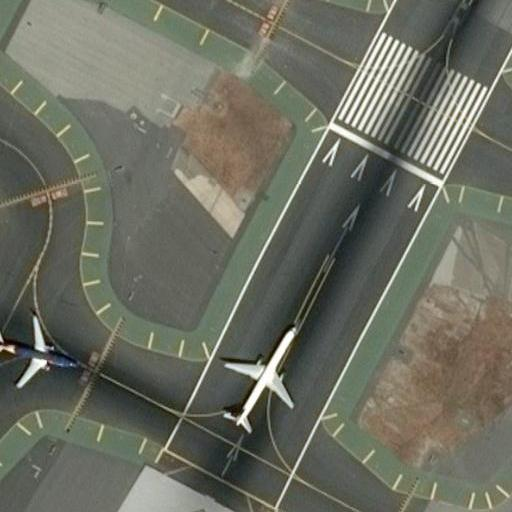Aircraft: (219, 325, 296, 430), (0, 310, 81, 387)
